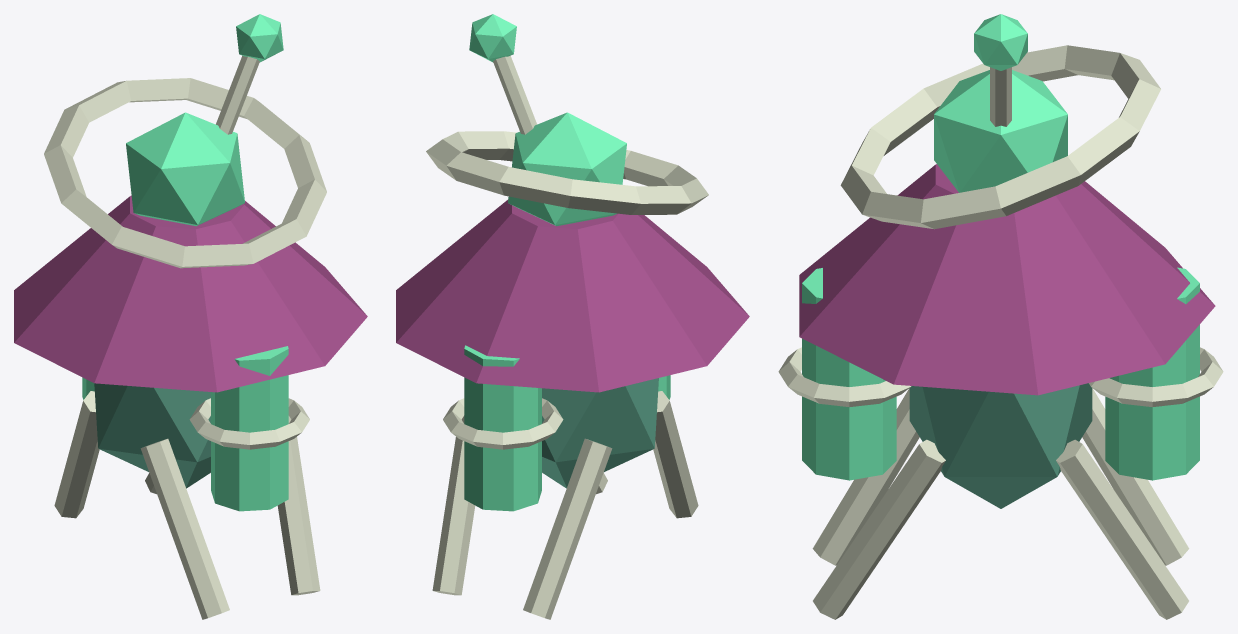
File: enemy_field_mender.glb
3 renders of one model, left to right at view 1: azimuth 30°, elevation 25°; view 2: azimuth 150°, elevation 25°; view 3: azimuth 270°, elevation 25°, orthographic. The views are drawn at different scales.
Parts seen in each view (by area): view 1: enemy_field_mender; view 2: enemy_field_mender; view 3: enemy_field_mender.
Part boxes in pixels (bbox=[...]): enemy_field_mender: bbox=[14, 14, 367, 619]; enemy_field_mender: bbox=[396, 14, 749, 619]; enemy_field_mender: bbox=[778, 14, 1223, 619].
Bounding box in the file's own units: 1.34 × 2.16 × 1.41.
